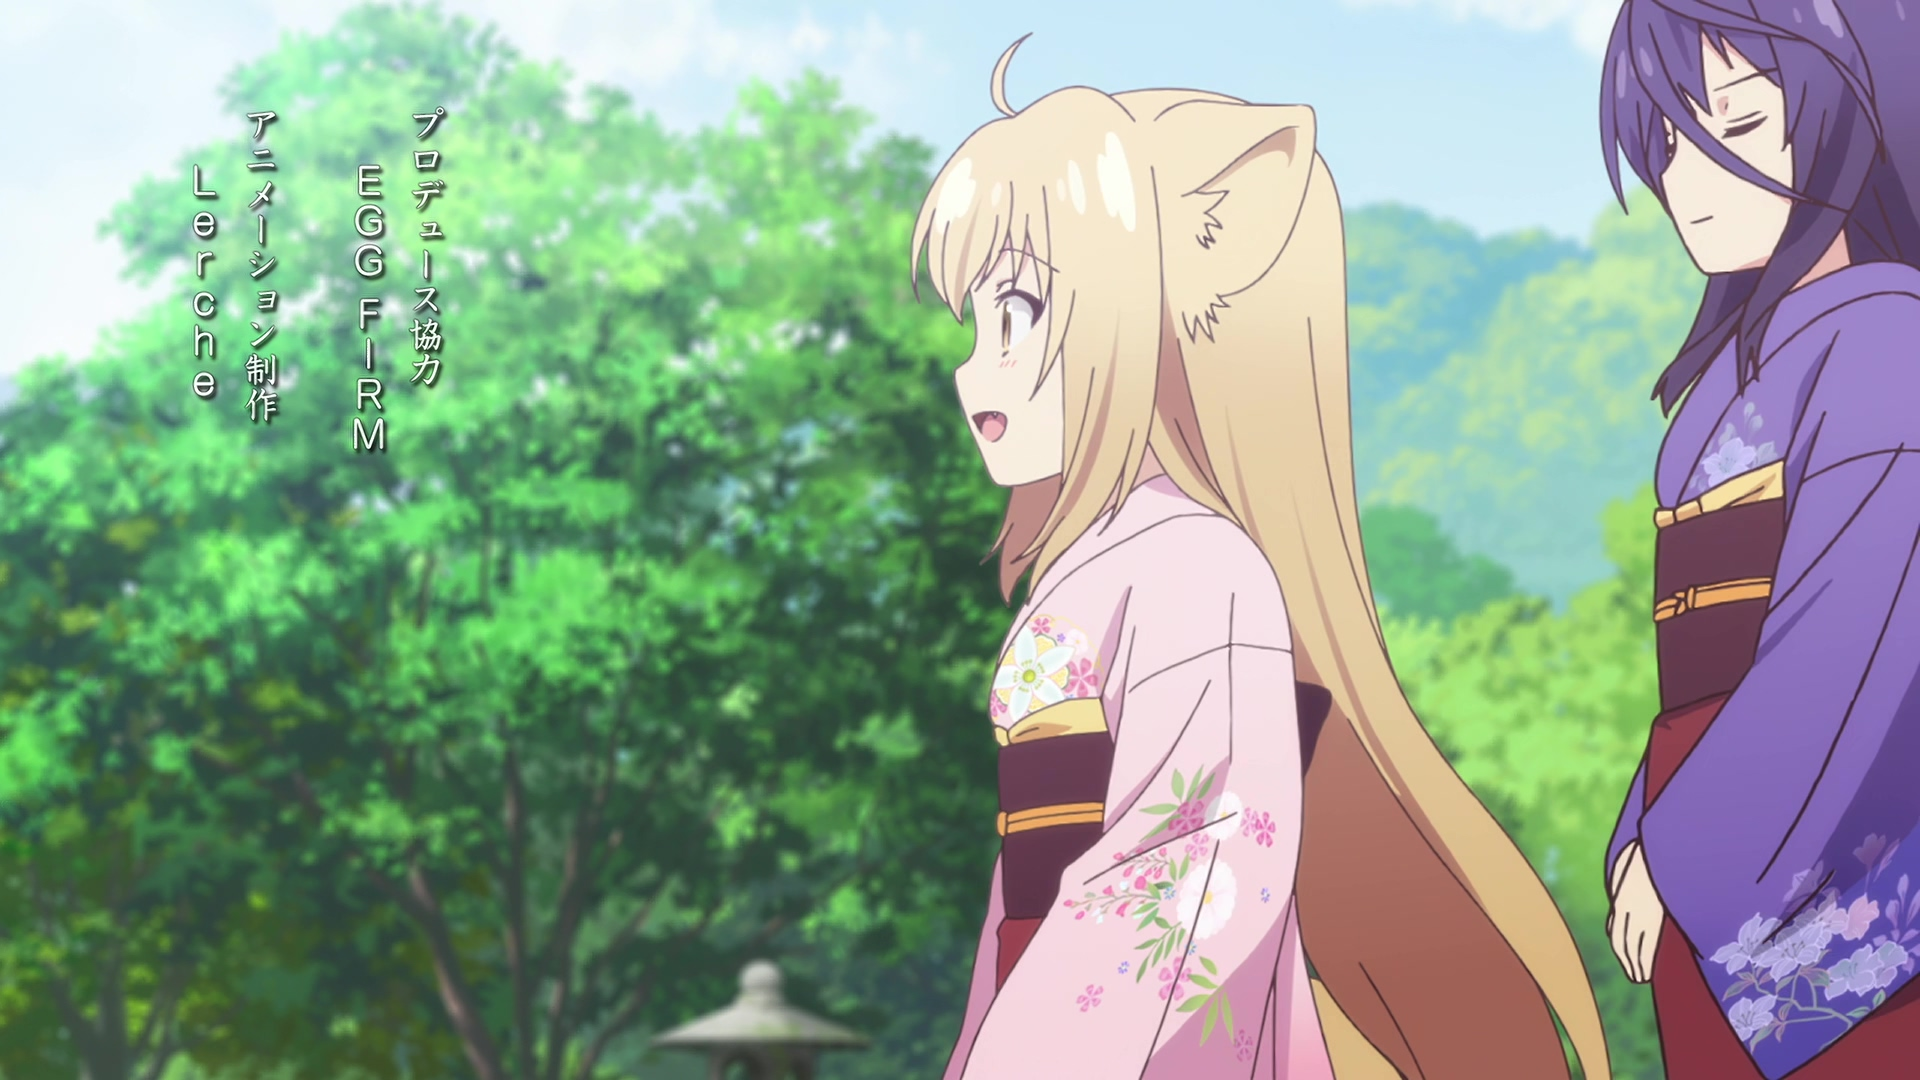柚: (909, 30, 1611, 1080)
皋: (1600, 1, 1920, 1080)
